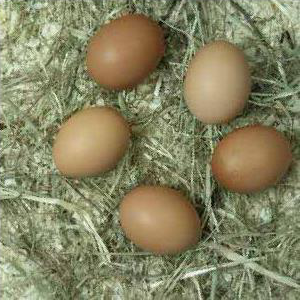egg: (87, 14, 165, 91), (117, 184, 202, 254), (210, 123, 292, 193), (184, 40, 251, 125), (53, 105, 129, 178)
